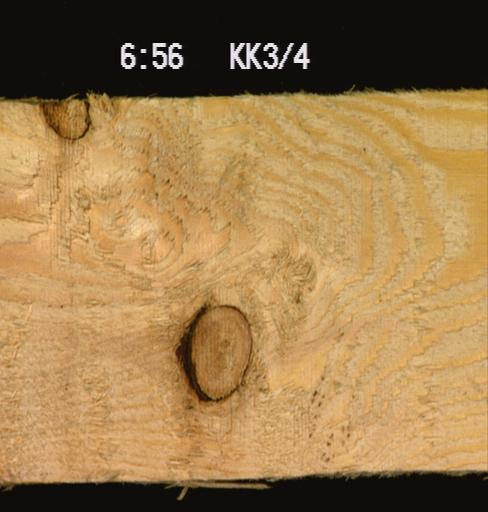edge_knot: (36, 93, 92, 141)
